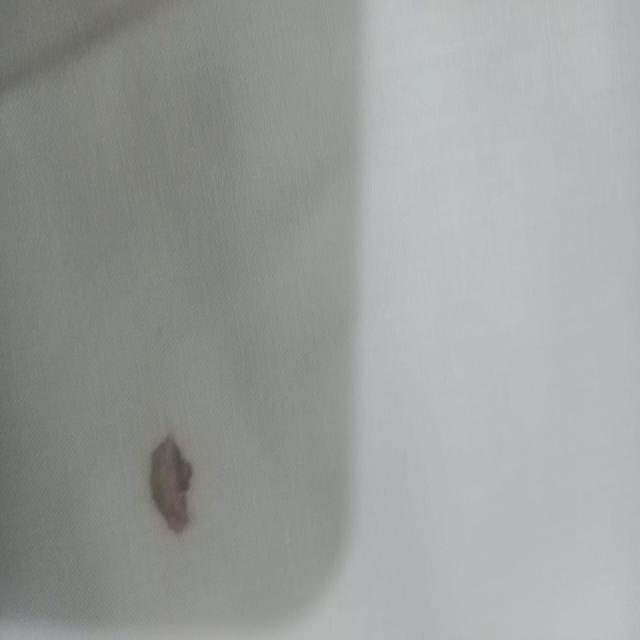stain: (142, 424, 200, 550)
